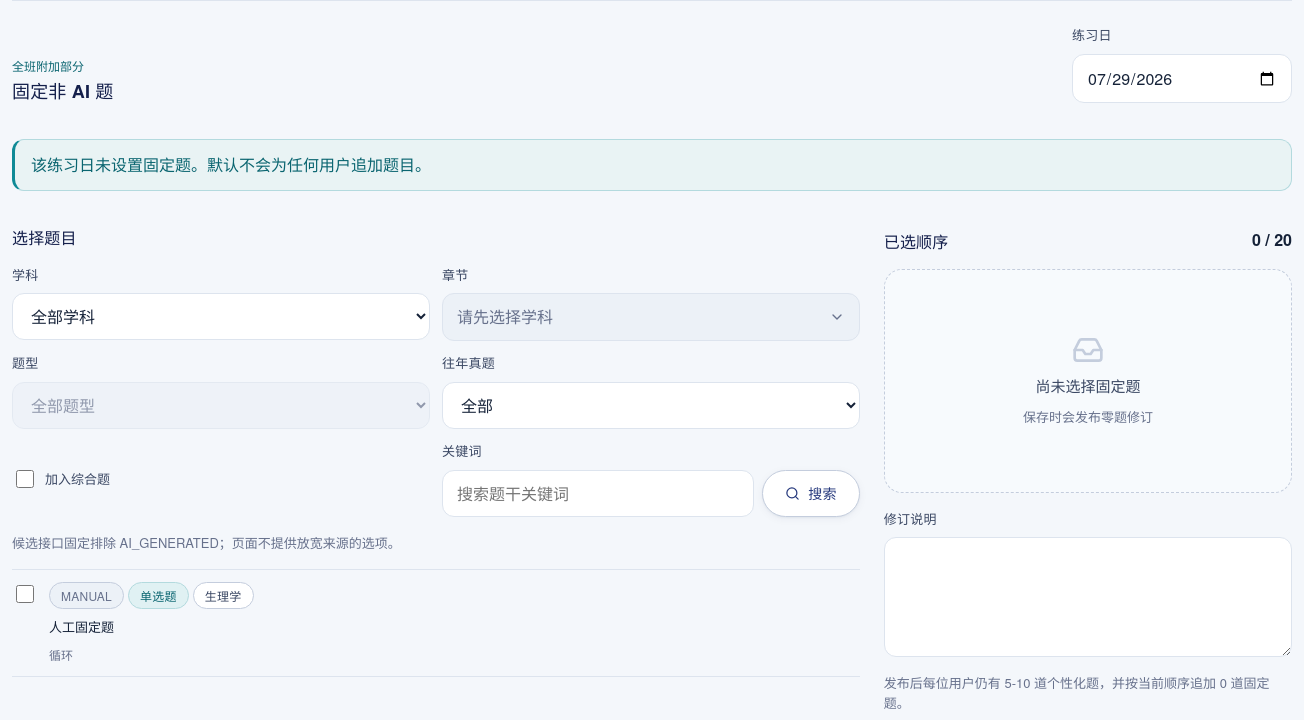
Test: AdminDailyFixedQuestions › locks the current practice date after its 04:00 cycle starts
The image size is (1304, 720).
In the date field with id "fixed-practice-date": [1182, 79] box 1072,54 -> 1292,103, type "2026-07-28"
(page scrolled)
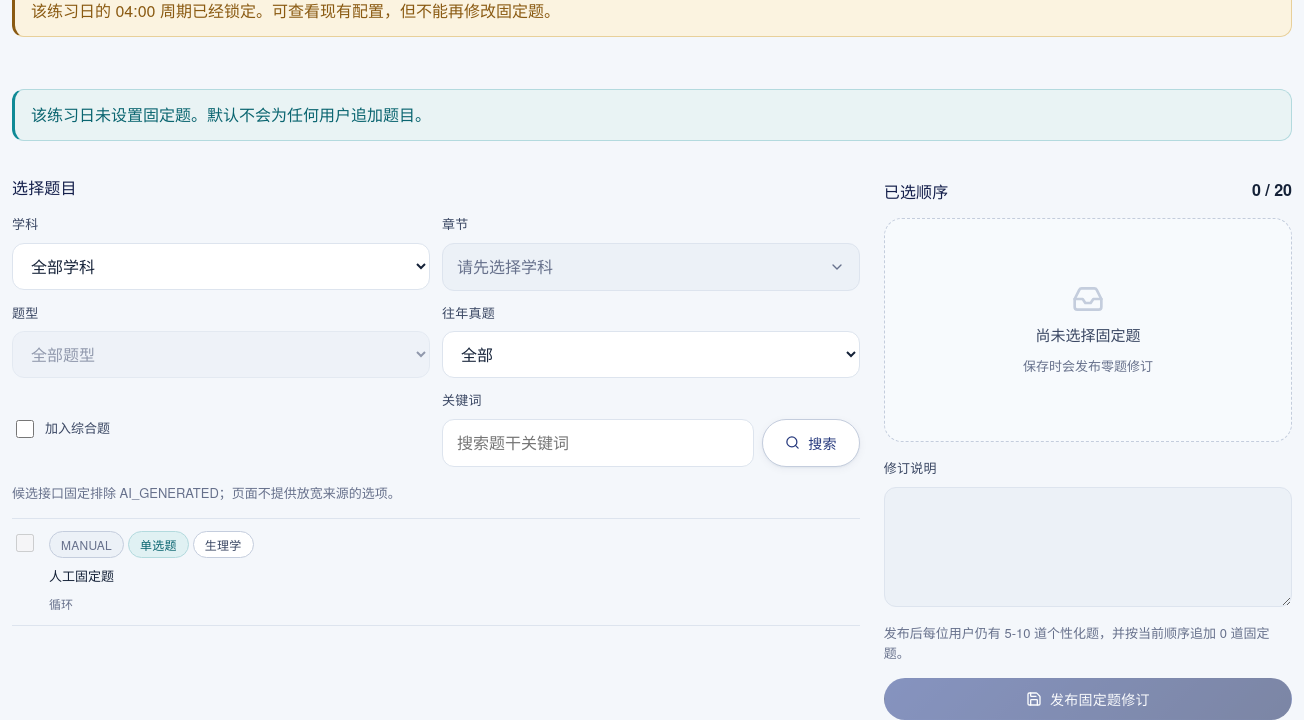
Now the text "04:00 周期已经锁定" is shown, box 31,0 -> 560,22
Now the checkbox labelled "MANUAL 单选题 生理学 人工固定题 循环" is disabled, box 16,534 -> 34,552
Now the button with class "save-button" is disabled, box 884,678 -> 1292,719
